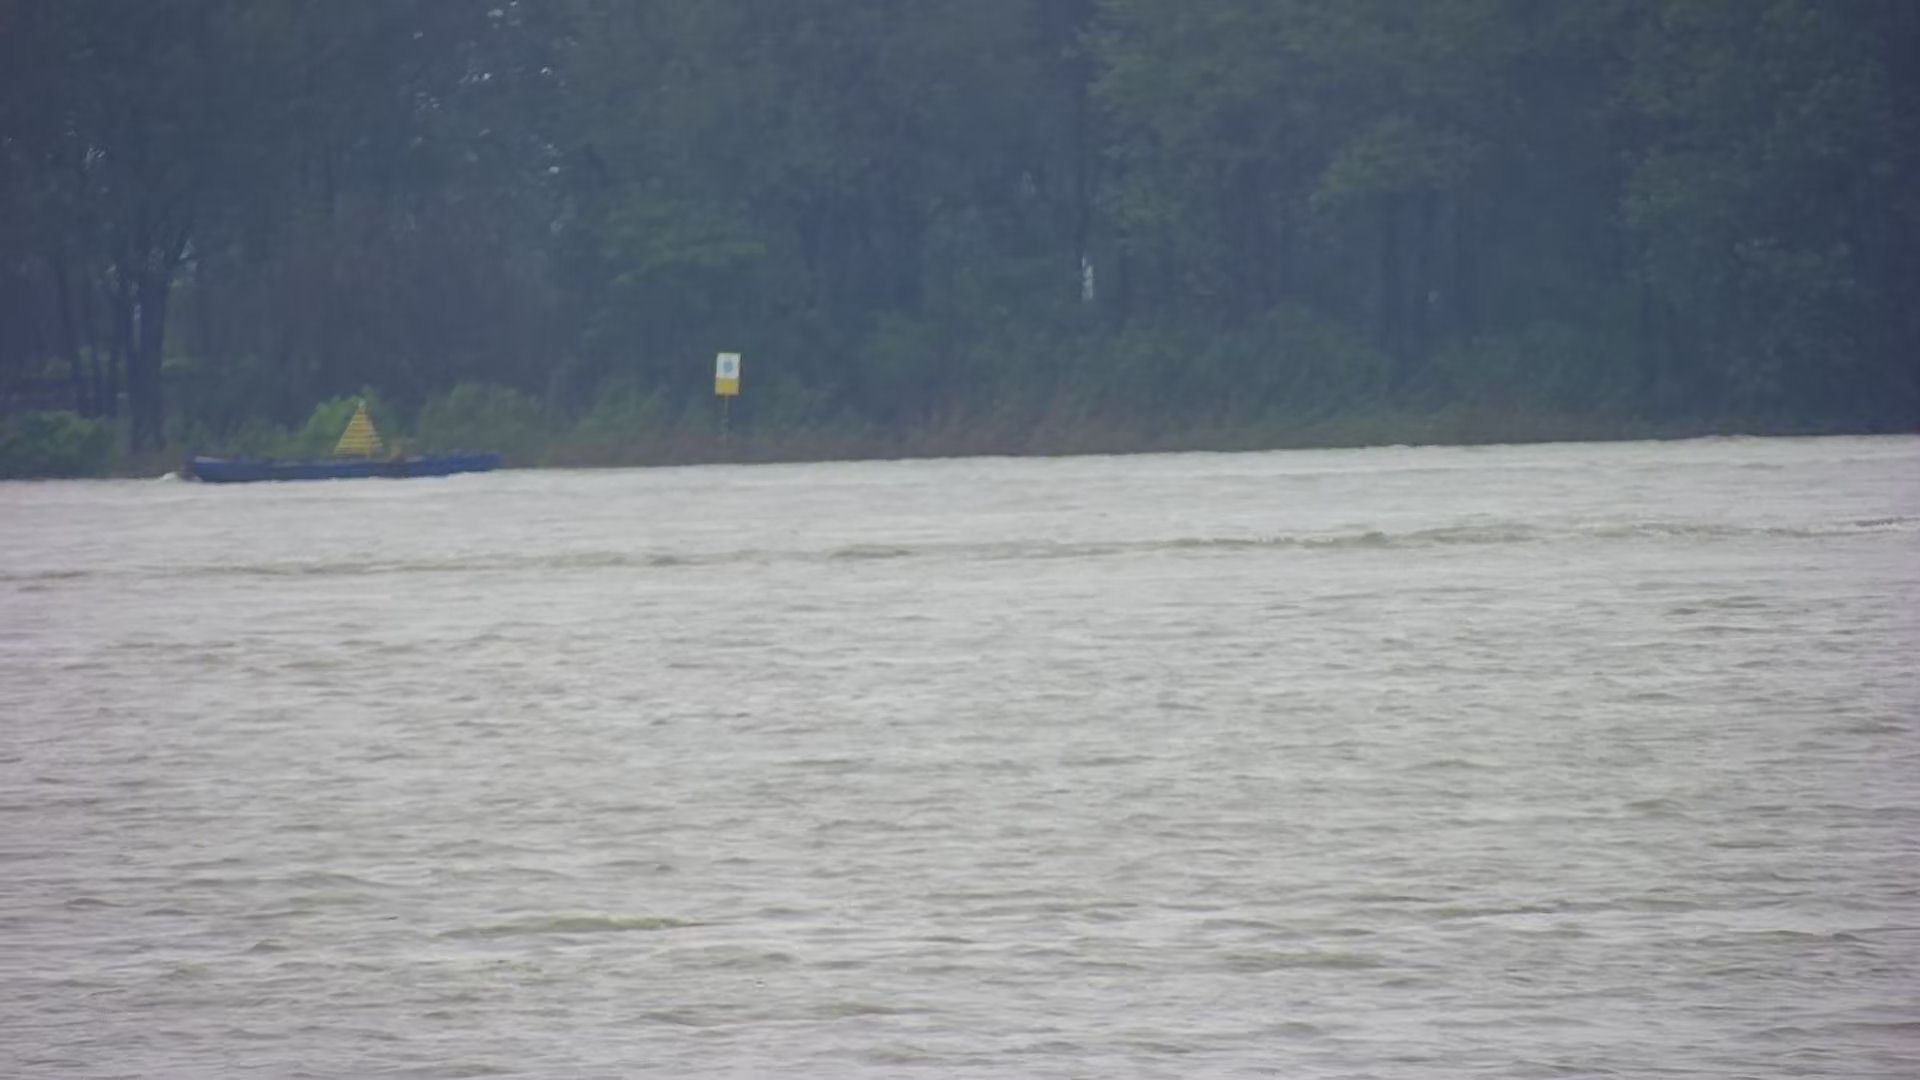boat: (187, 404, 504, 477)
mast: (712, 351, 744, 464)
